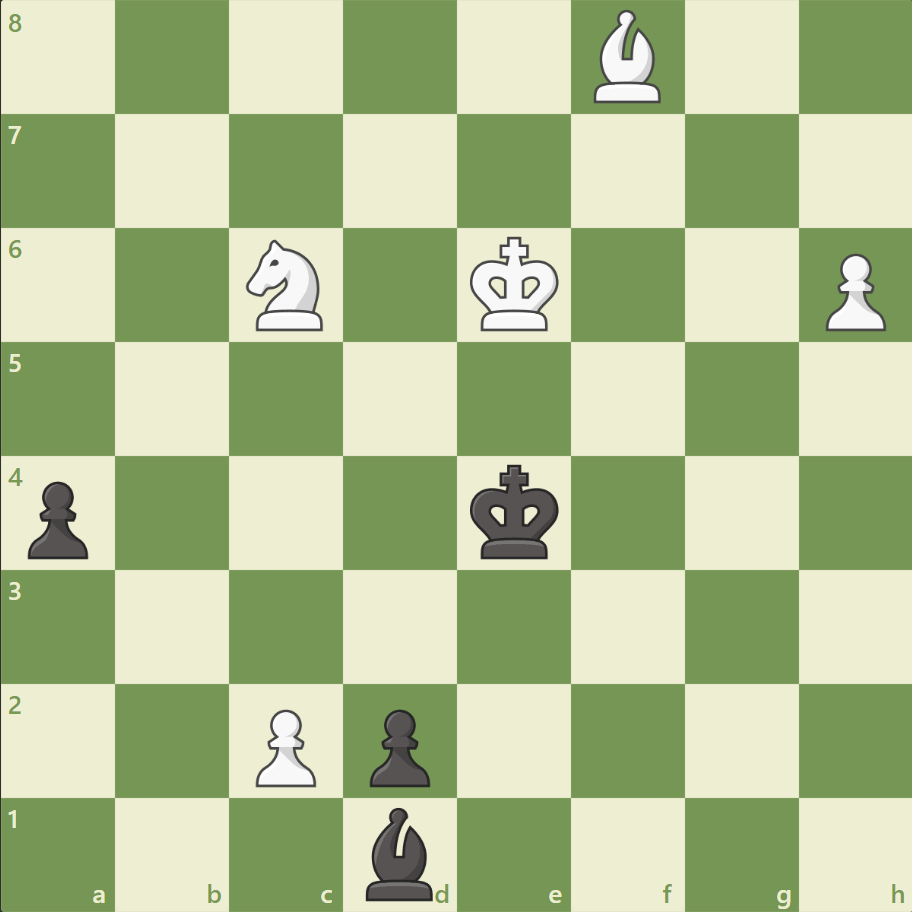B: (585, 6, 669, 109)
K: (465, 231, 565, 339)
N: (238, 234, 335, 337)
P: (247, 700, 322, 791), (815, 246, 889, 337)
b: (358, 801, 442, 904)
k: (465, 458, 565, 566)
p: (20, 473, 95, 564), (361, 700, 435, 791)
